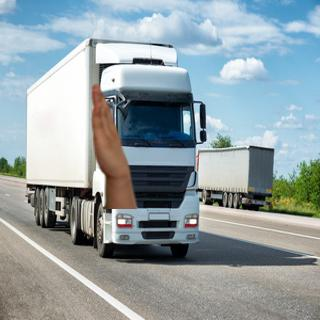RIGHT: (86, 82, 134, 180)
